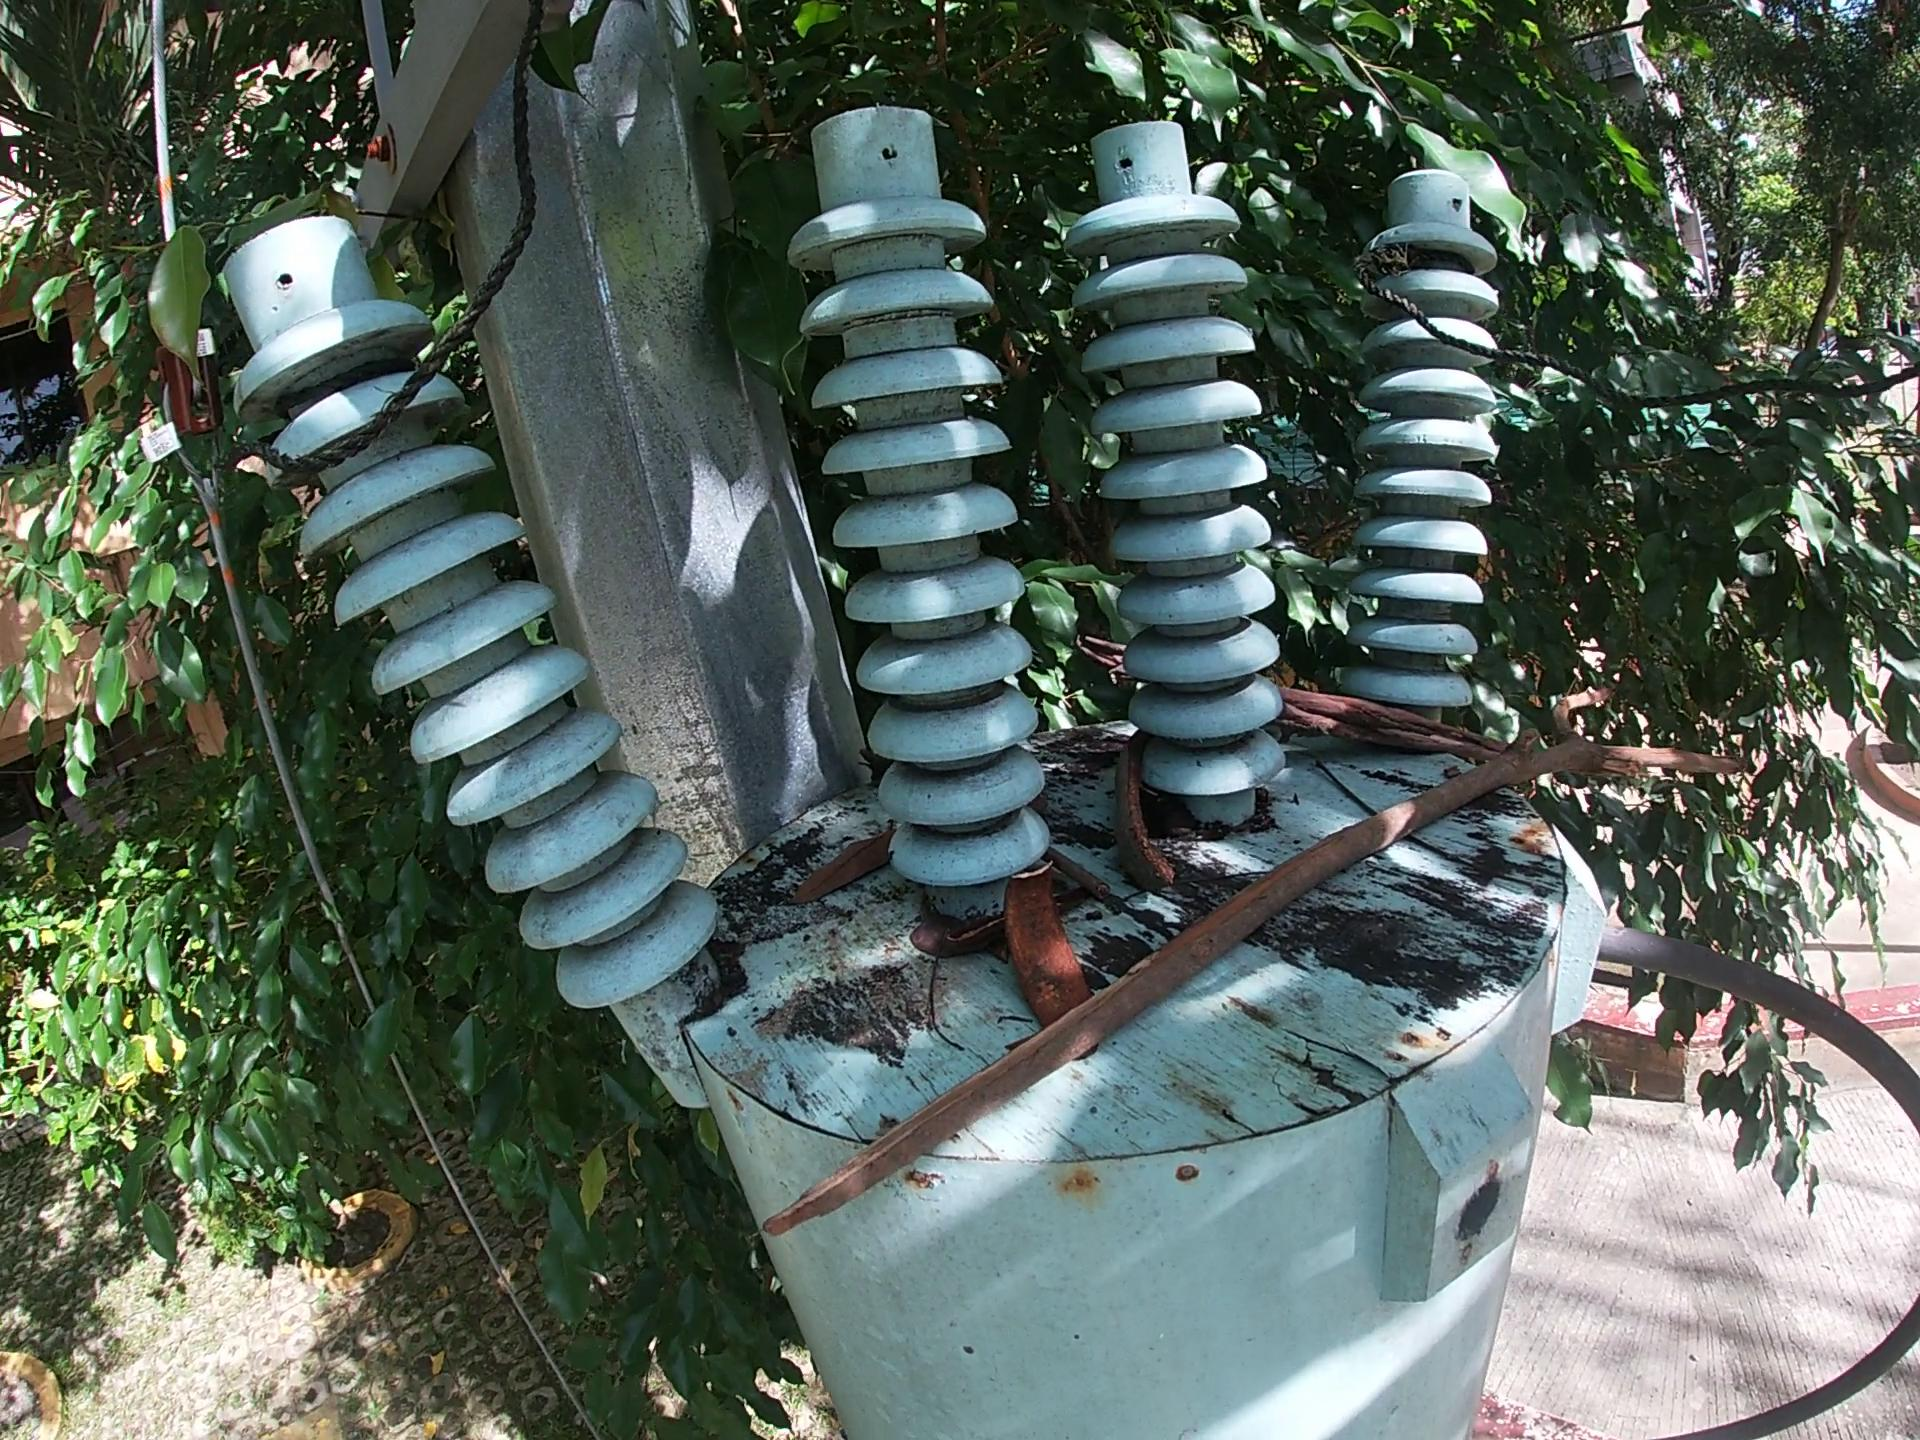leaf: (776, 829, 887, 903), (898, 920, 943, 970)
mahogany fruit: (993, 852, 1087, 1026), (1107, 725, 1179, 892)
tree branch: (738, 676, 1776, 1274), (1284, 690, 1503, 762), (1404, 829, 1569, 900), (1046, 843, 1126, 909), (1123, 870, 1259, 908), (1315, 756, 1373, 808), (946, 914, 996, 962), (1069, 629, 1129, 667)
